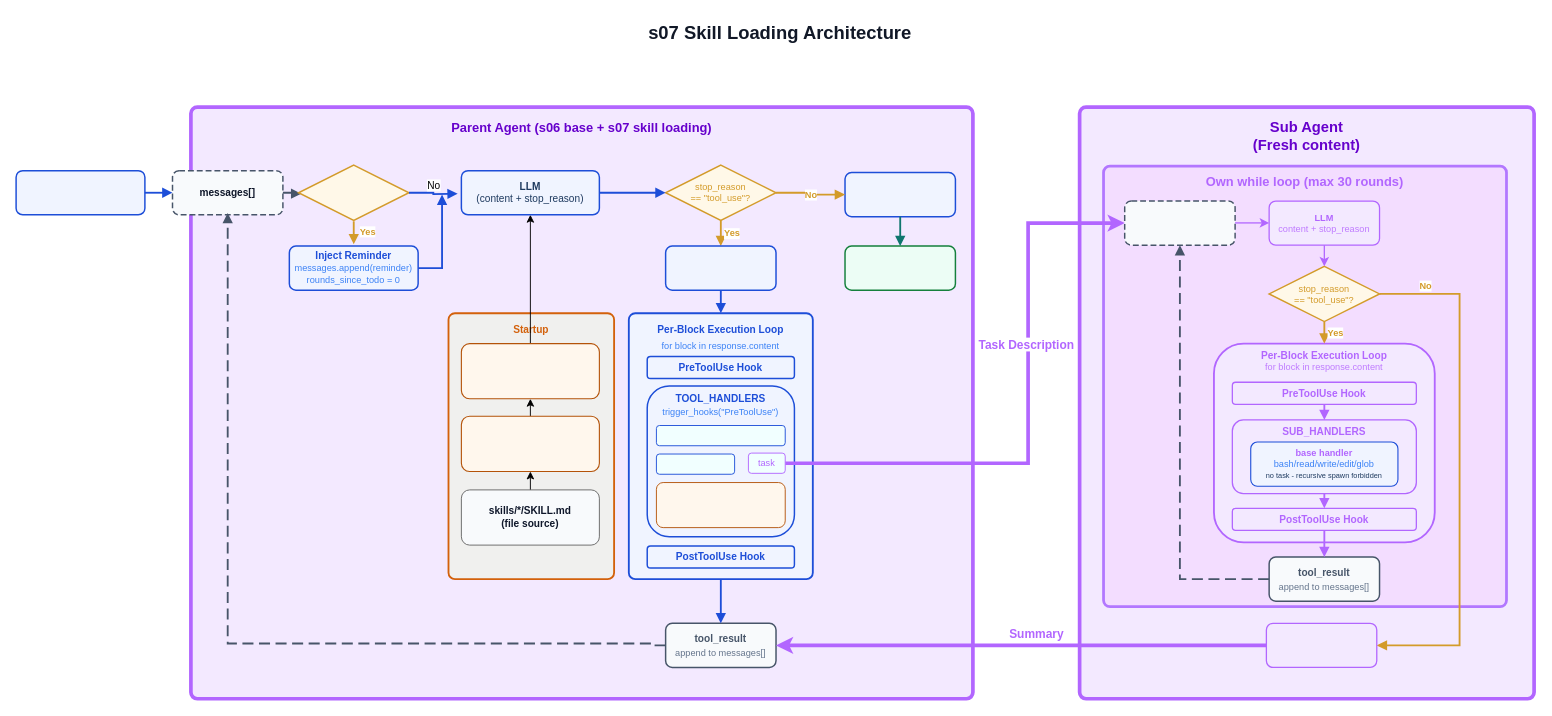
Image size: 1552x716. Some labels were removed from this diagram. Each missing label, with the centre of its shape:
_scan_skills() scan skill name, description and content once: point (529, 443)
bash / read / write / edit: point (720, 435)
build_system() add all skills' name and description to SYSTEM: point (529, 371)
extract_text extract only last text history DISCARD: point (1321, 645)
glob / todo_write: point (695, 463)
load_skill(name) read full SKILL.md content at runtime: point (720, 505)
messages[] Fresh: no parent history: point (1179, 222)
Return Result Loop ends: point (900, 268)
rounds_since_todo >= 3?: point (353, 192)
rounds_since_todo++: point (720, 268)
Stop Hook: point (900, 194)
User Query: point (80, 192)
